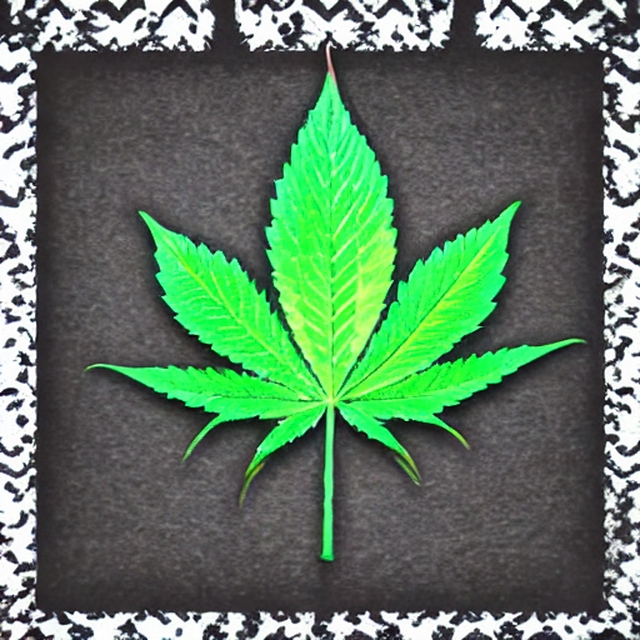Marijuana Leaf: (82, 43, 587, 561)
